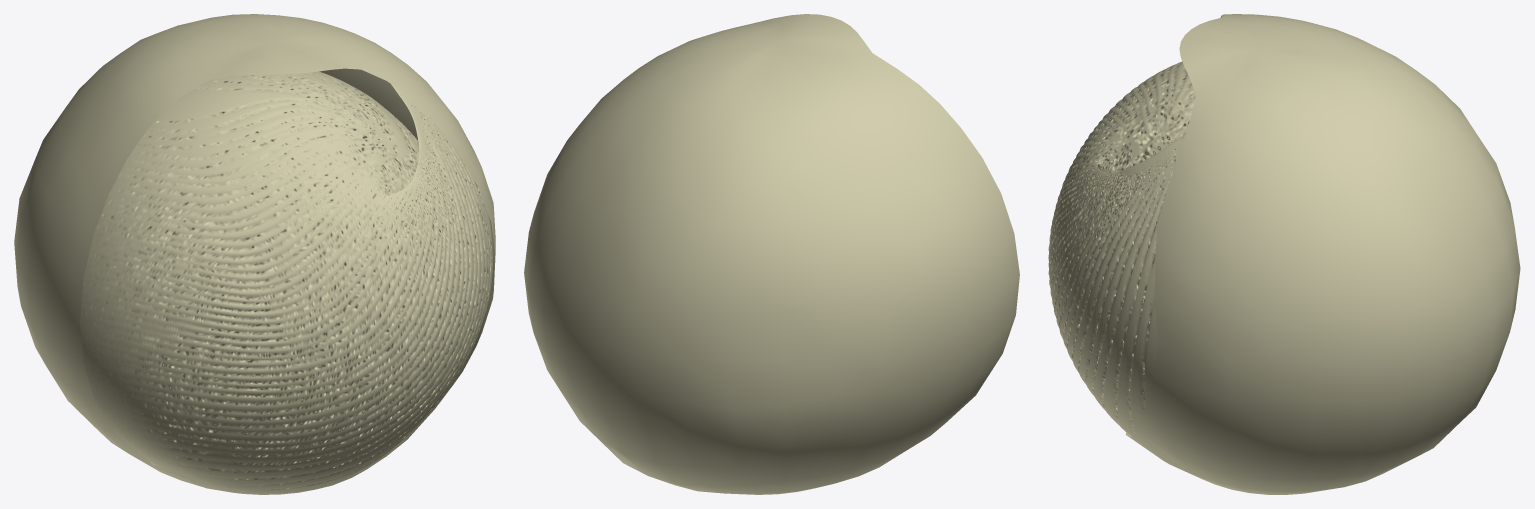
3 views of the same model, side by side, from view 1: azimuth 30°, elevation 25°; view 2: azimuth 150°, elevation 25°; view 3: azimuth 270°, elevation 25° (orthographic). The views are drawn at different scales.
Parts seen in each view (by area): view 1: circle_cut_001.001, Sphere; view 2: Sphere; view 3: Sphere, circle_cut_001.001.
Part boxes in pixels (x1,y1,x2,y2): circle_cut_001.001: [80, 71, 492, 491]; Sphere: [14, 14, 495, 494]; Sphere: [524, 14, 1019, 494]; Sphere: [1125, 14, 1520, 494]; circle_cut_001.001: [1048, 61, 1195, 436].
Size of the model in its own units: 2.44 by 2.33 by 2.38.
